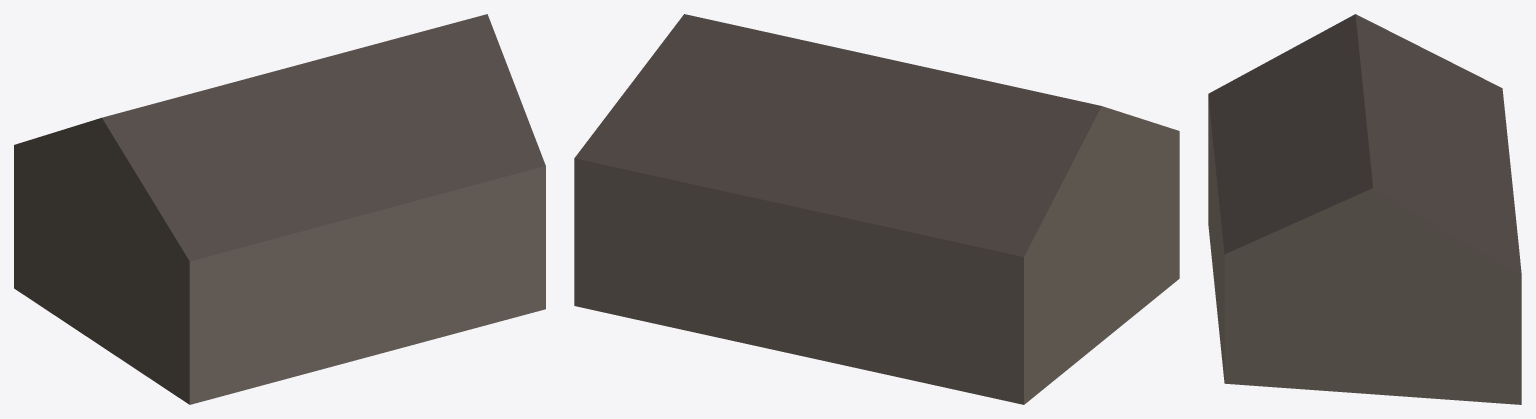
3 renders of one model, left to right at view 1: azimuth 30°, elevation 25°; view 2: azimuth 150°, elevation 25°; view 3: azimuth 270°, elevation 25°, orthographic. The views are drawn at different scales.
Visible parts, largest first — view 1: HP-w859447861; view 2: HP-w859447861; view 3: HP-w859447861.
Part boxes in pixels (x1=…): HP-w859447861: x1=14, y1=14, x2=545, y2=404; HP-w859447861: x1=574, y1=14, x2=1179, y2=404; HP-w859447861: x1=1208, y1=14, x2=1521, y2=404.
Bounding box in the file's own units: 18.65 × 9.58 × 13.19.
